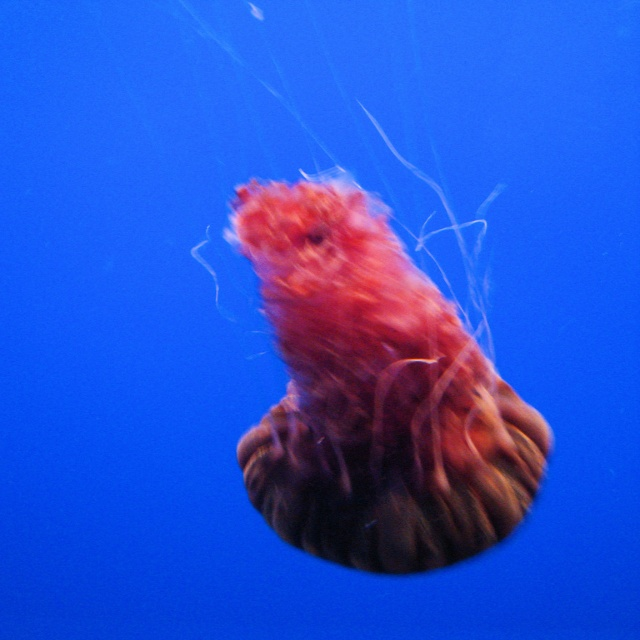Jellyfish: (208, 134, 560, 575)
